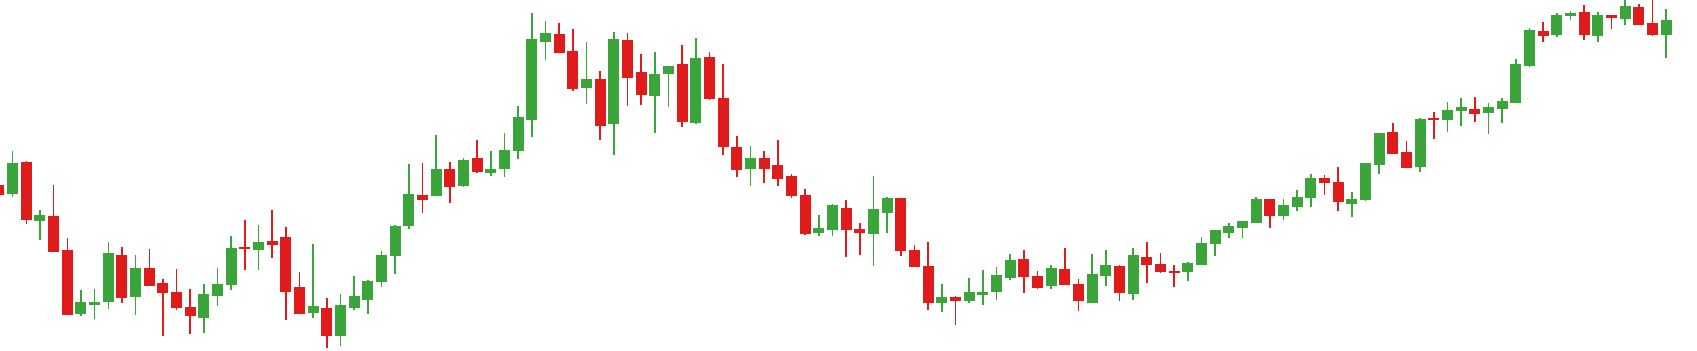buy: (195, 248, 346, 351)
